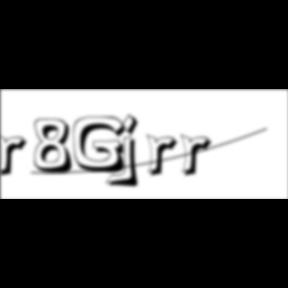8: (34, 117, 79, 176)
G: (74, 116, 132, 176)
j: (118, 113, 145, 191)
r: (147, 134, 185, 180), (180, 134, 218, 180), (0, 134, 34, 180)
